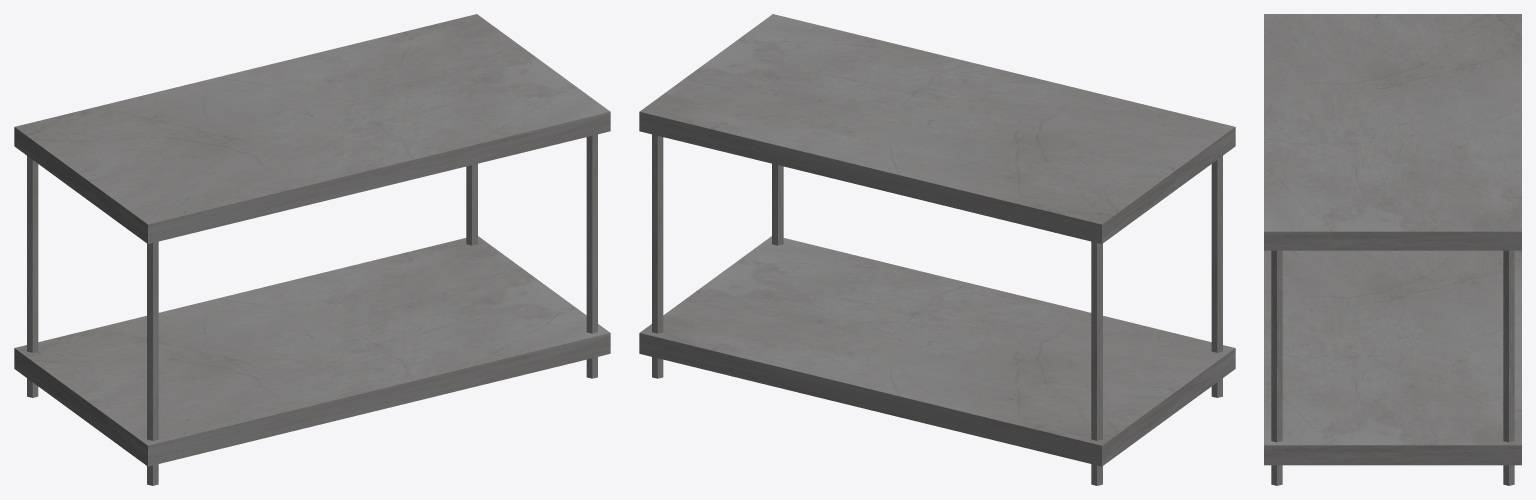
Rendered from cantina-table-kitchen.fbx.
The picture shows the model from 3 angles, left to right: view 1: azimuth 30°, elevation 25°; view 2: azimuth 150°, elevation 25°; view 3: azimuth 270°, elevation 25°; orthographic projection. The views are drawn at different scales.
Parts seen in each view (by area): view 1: table, under, leg2, leg3, leg1, leg; view 2: table, under, leg1, leg, leg2, leg3; view 3: table, under, leg, leg3.
Part boxes in pixels (left/top/right/bottom): table: left=14, top=14, right=610, bottom=243; under: left=14, top=236, right=610, bottom=466; leg2: left=147, top=241, right=158, bottom=485; leg3: left=586, top=134, right=597, bottom=378; leg1: left=27, top=156, right=38, bottom=397; leg: left=466, top=163, right=477, bottom=245; table: left=639, top=14, right=1235, bottom=243; under: left=639, top=236, right=1235, bottom=466; leg1: left=1091, top=241, right=1102, bottom=485; leg: left=652, top=134, right=663, bottom=378; leg2: left=1211, top=156, right=1222, bottom=397; leg3: left=772, top=163, right=783, bottom=245; table: left=1264, top=14, right=1521, bottom=250; under: left=1264, top=250, right=1521, bottom=465; leg: left=1503, top=250, right=1514, bottom=485; leg3: left=1271, top=250, right=1282, bottom=485.
Bounding box in the file's own units: 400 × 220 × 200.
